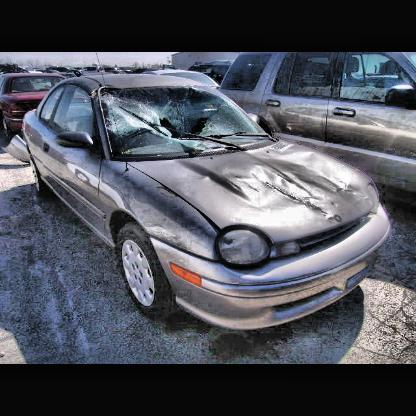Plymouth Neon Coupe 1999: (24, 71, 394, 332)
